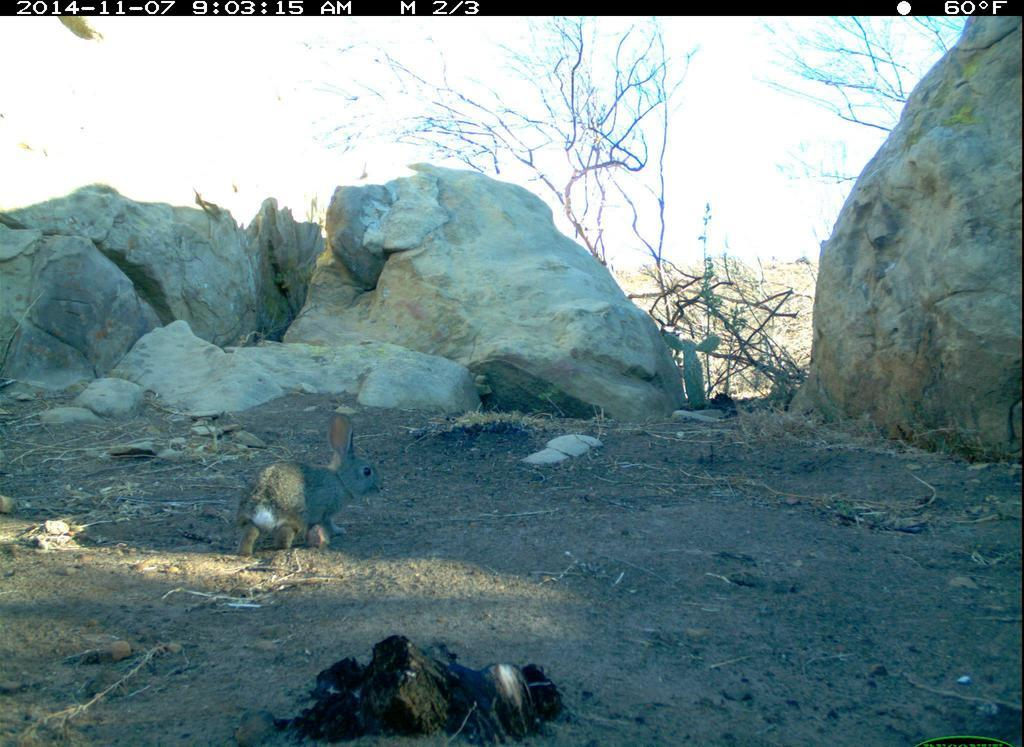rabbit: (233, 408, 382, 564)
